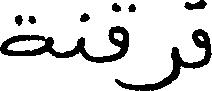X: (129, 0, 179, 90), (0, 10, 50, 60), (109, 0, 127, 90), (193, 0, 211, 73), (77, 8, 84, 62)
